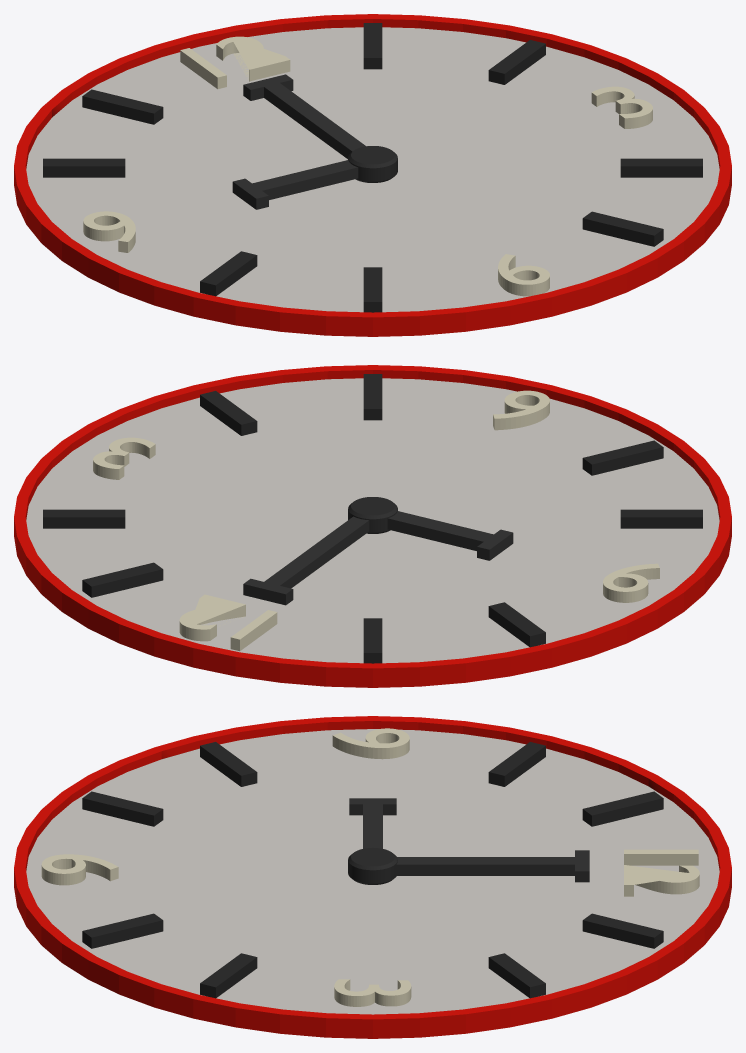
The model's file is Clock.fbx.
3 renders of one model, top to bottom at view 1: azimuth 30°, elevation 25°; view 2: azimuth 150°, elevation 25°; view 3: azimuth 270°, elevation 25°, orthographic.
Visible parts, largest first — view 1: ClockMainBody01, MinuteDirection, 12, HourDirection, 3, 6, 9, ClockMainBody02; view 2: ClockMainBody01, MinuteDirection, 12, HourDirection, 6, 9, 3, ClockMainBody02; view 3: ClockMainBody01, MinuteDirection, 12, 6, 9, ClockMainBody02, 3, HourDirection.
Boxes of the visible parts, x1,y1,x2,y2 form: ClockMainBody01: (14,14,731,336); MinuteDirection: (243,74,365,158); 12: (180,36,290,89); HourDirection: (232,160,358,209); 3: (591,86,652,128); 6: (498,254,549,296); 9: (83,211,135,252); ClockMainBody02: (348,146,397,182); ClockMainBody01: (14,365,731,687); MinuteDirection: (243,516,369,605); 12: (179,594,277,651); HourDirection: (387,511,513,560); 6: (493,390,549,430); 9: (603,563,659,602); 3: (93,437,155,479); ClockMainBody02: (348,497,397,533); ClockMainBody01: (14,716,731,1038); MinuteDirection: (396,850,589,882); 12: (624,849,699,896); 6: (41,854,118,885); 9: (332,728,409,759); ClockMainBody02: (348,848,397,884); 3: (334,979,411,1006); HourDirection: (349,798,396,848).
Bounding box in the file's own units: 500 × 23.13 × 500.
3 materials, 3 textured.
